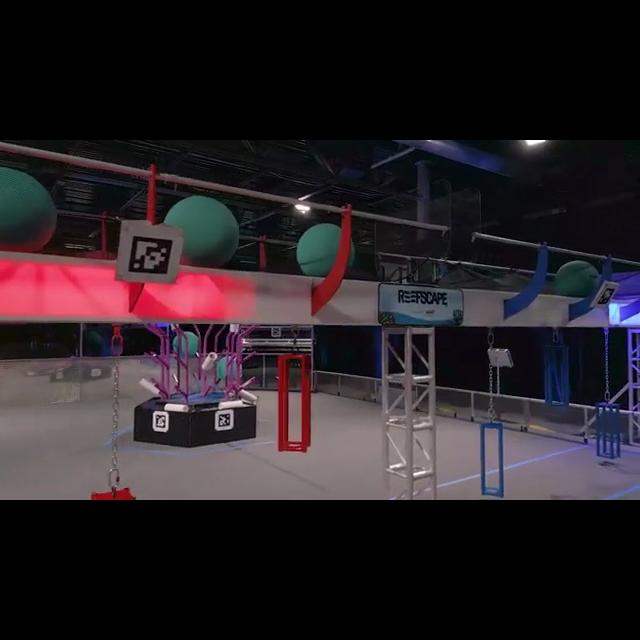ALGAE: (163, 194, 240, 268), (0, 166, 60, 254), (298, 223, 354, 277), (556, 260, 600, 300)
